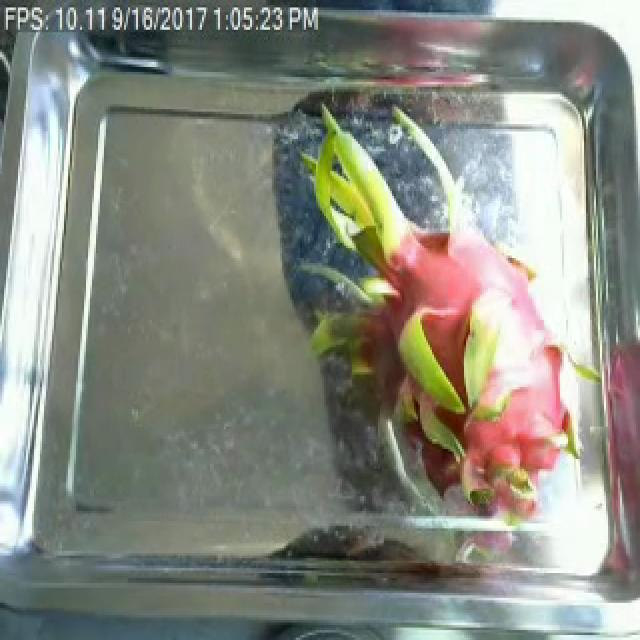fruit: (284, 114, 596, 533)
